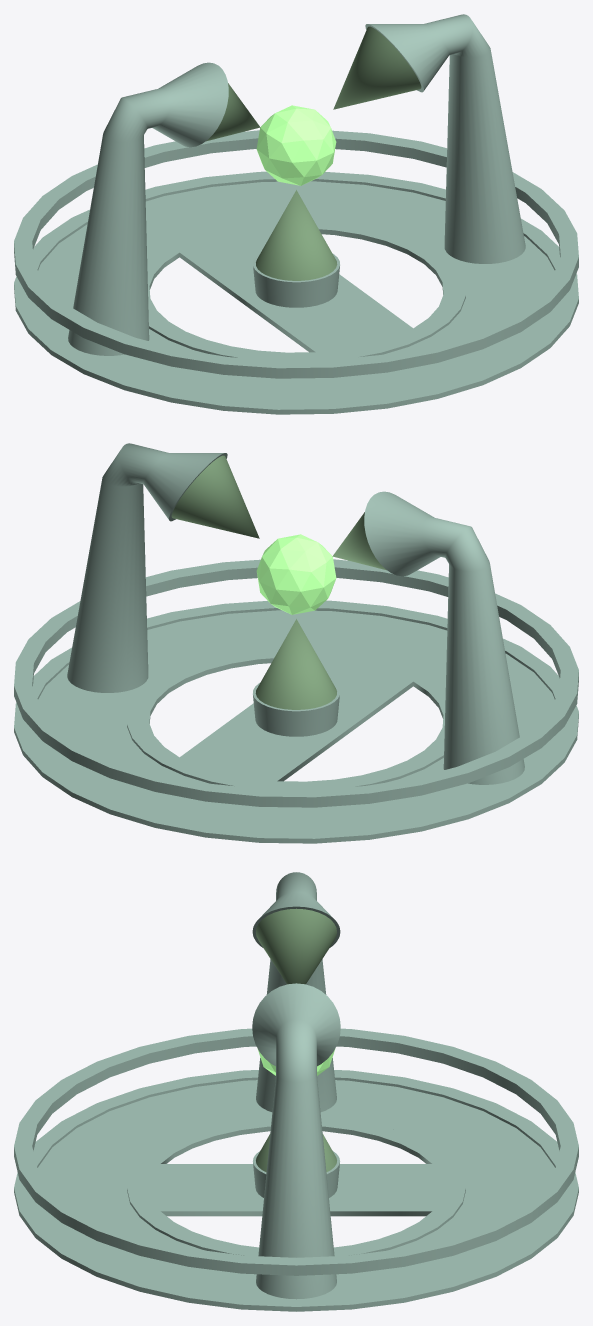
The model's file is Tech6.fbx.
3 renders of one model, top to bottom at view 1: azimuth 30°, elevation 25°; view 2: azimuth 150°, elevation 25°; view 3: azimuth 270°, elevation 25°, orthographic.
Visible parts, largest first — view 1: Tech6, Tech6_Struts; view 2: Tech6, Tech6_Struts; view 3: Tech6, Tech6_Struts.
Part boxes in pixels (x1,y1,x2,y2): Tech6: (14,105,578,414); Tech6_Struts: (68,14,525,355); Tech6: (14,534,578,843); Tech6_Struts: (67,443,524,784); Tech6: (14,1028,578,1311); Tech6_Struts: (252,872,340,1299).
Size of the model in its own units: 1388 by 672 by 1388.
